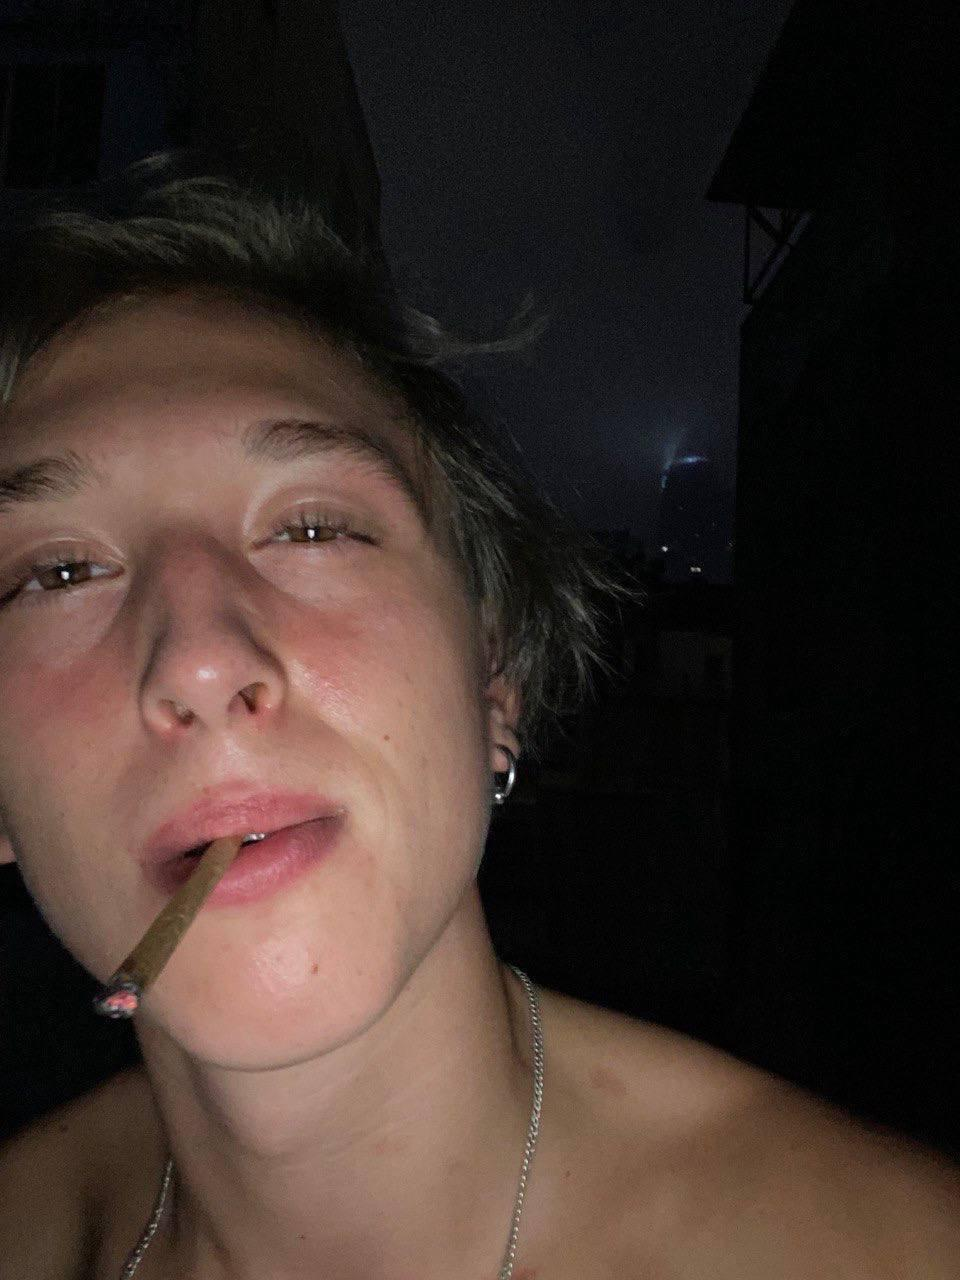cigarette: (92, 833, 245, 1018)
